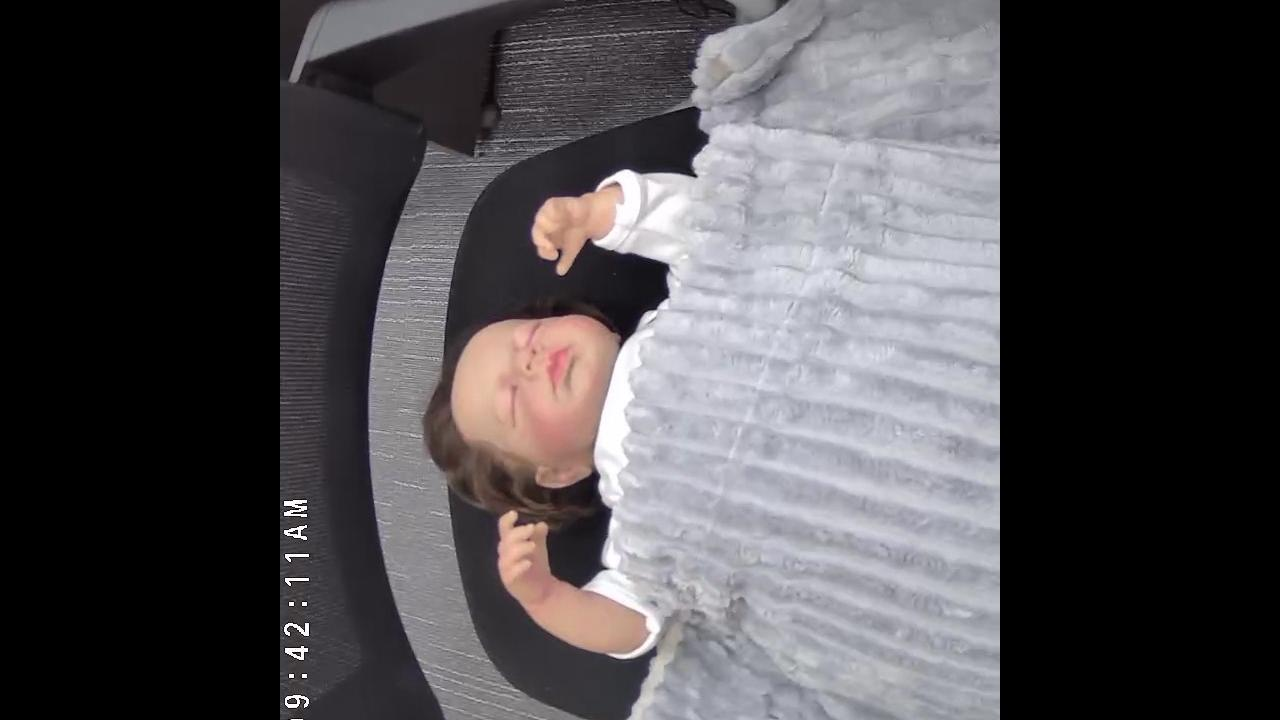hand: (532, 192, 593, 277), (496, 509, 555, 594)
